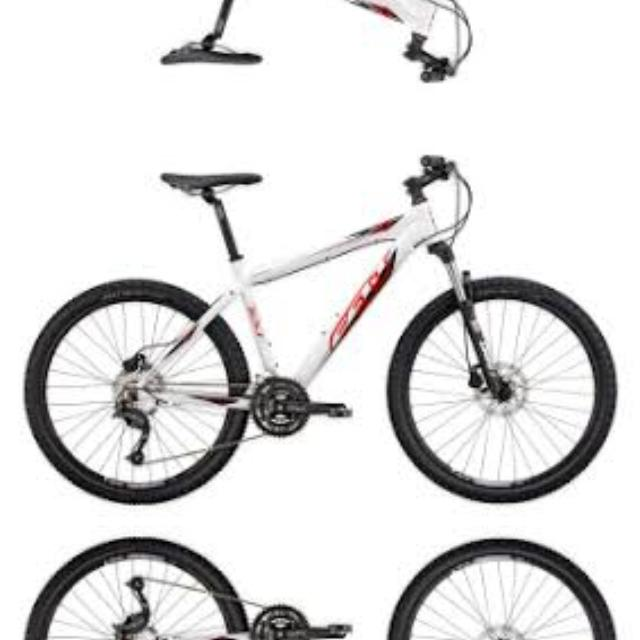obstacle: (16, 135, 630, 520), (16, 520, 629, 640), (16, 0, 629, 100)
